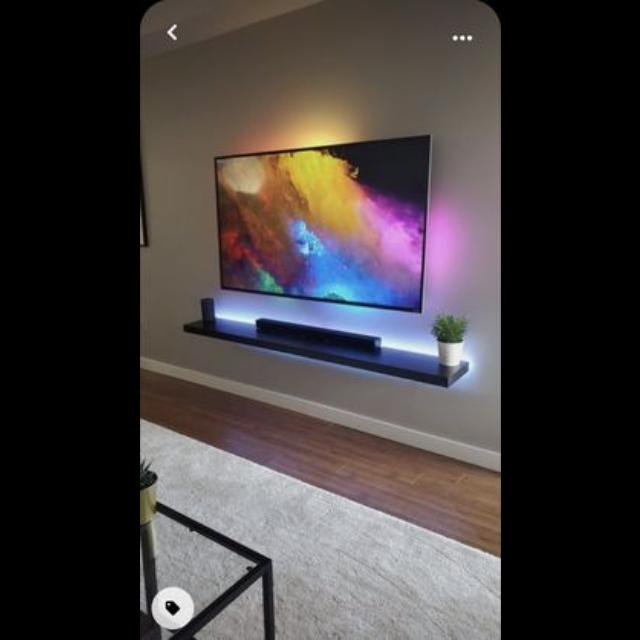Flat-Panel-TV: (202, 140, 432, 318)
